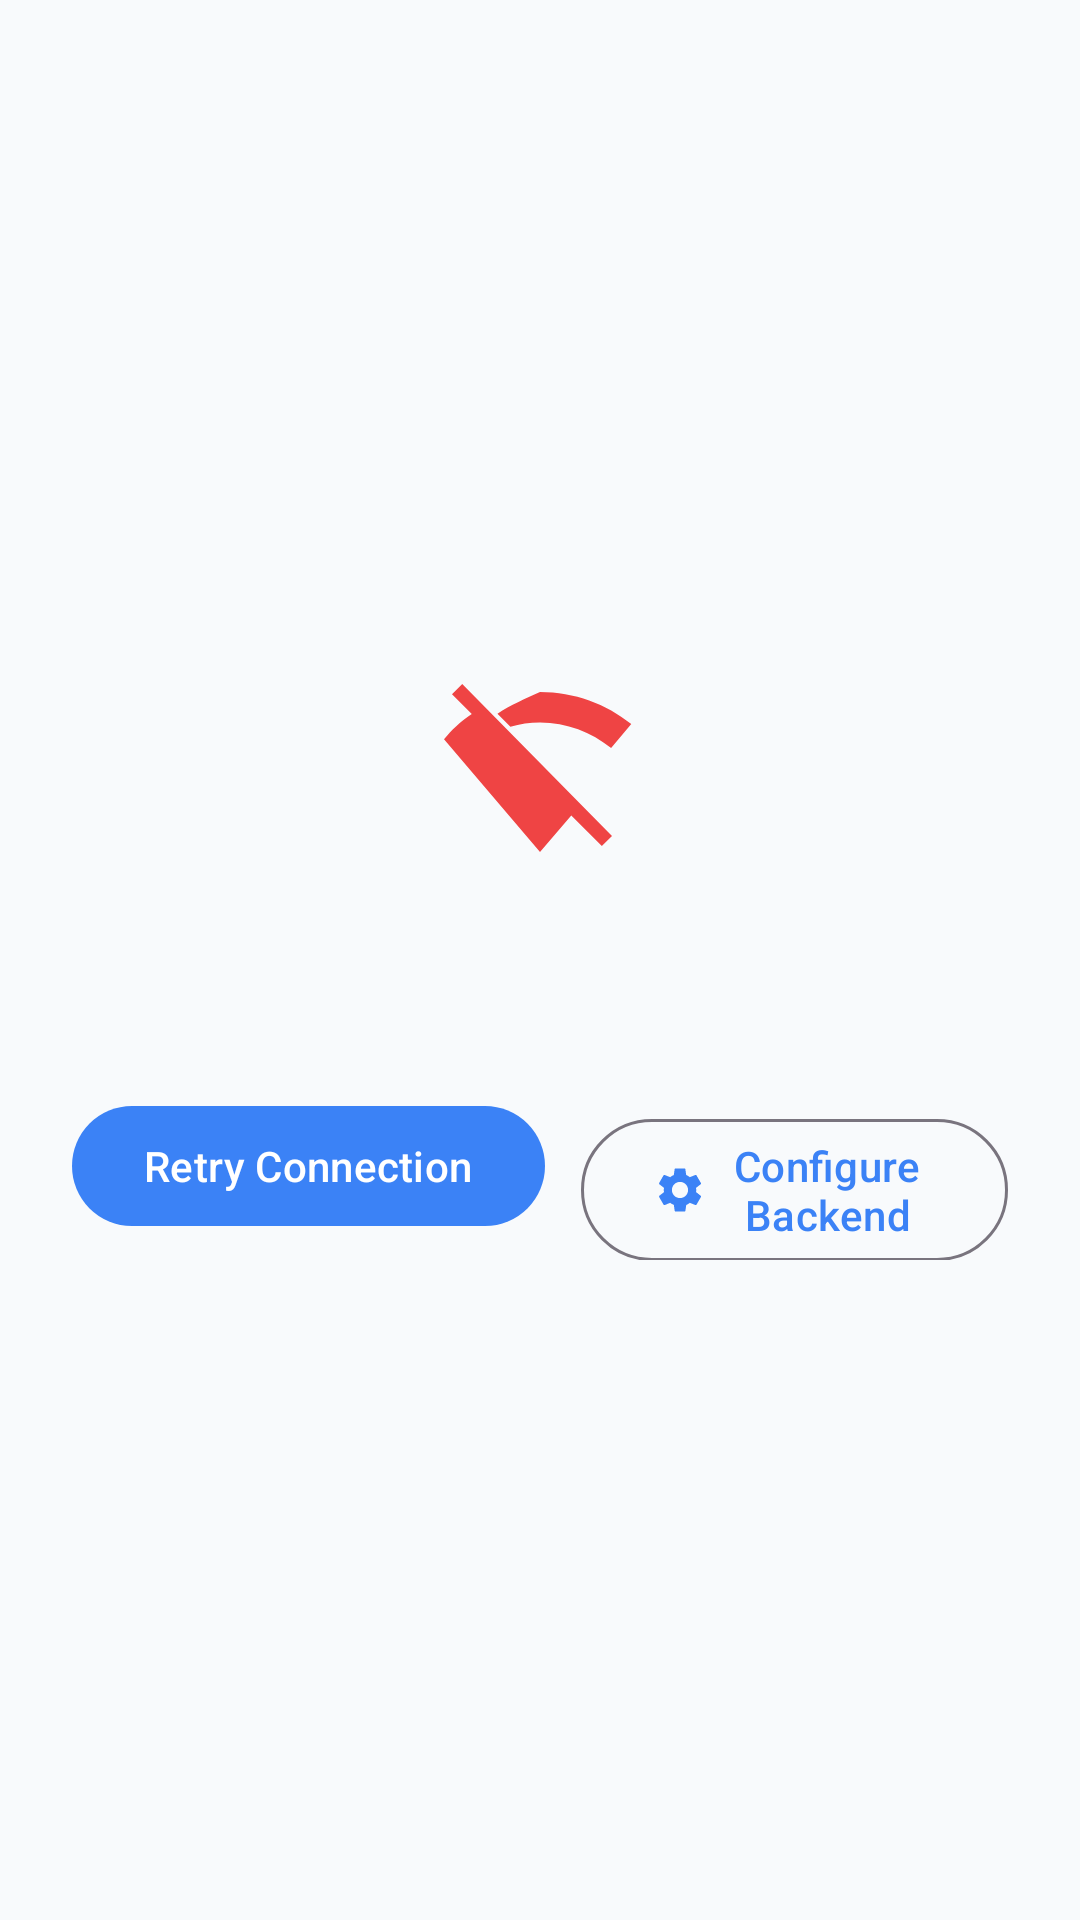

Locate icon controls on the screen. Image size 1080*1920, boxes as {"left": x1, "top": y1, "right": x2, "bottom": y2}.
wifi off: {"left": 444, "top": 684, "right": 631, "bottom": 852}
